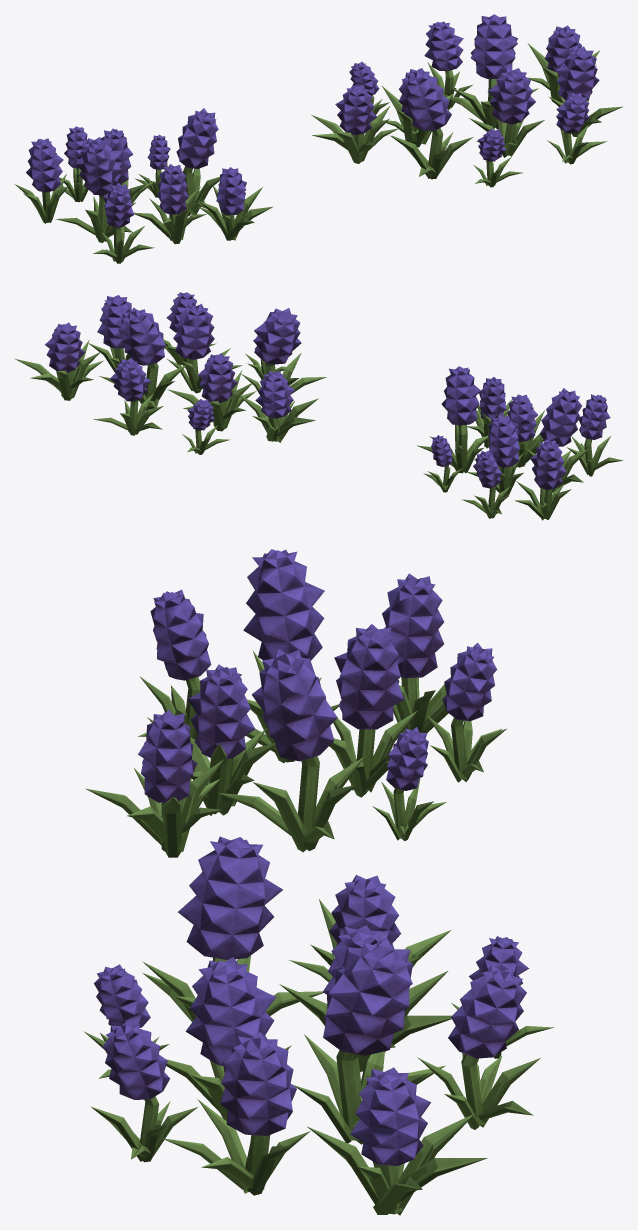
File: purple_flowers.glb
The picture shows the model from 3 angles, top to bottom: view 1: azimuth 30°, elevation 25°; view 2: azimuth 150°, elevation 25°; view 3: azimuth 270°, elevation 25°; orthographic projection. The views are drawn at different scales.
Parts seen in each view (by area): view 1: mesh_flower_purple.002, mesh_flower_purple.003; view 2: mesh_flower_purple.002, mesh_flower_purple.003; view 3: mesh_flower_purple.002, mesh_flower_purple.003.
Boxes of the visible parts, x1=… form: mesh_flower_purple.002: x1=311, y1=14, x2=622, y2=187; mesh_flower_purple.003: x1=14, y1=108, x2=273, y2=263; mesh_flower_purple.002: x1=14, y1=292, x2=326, y2=454; mesh_flower_purple.003: x1=417, y1=366, x2=622, y2=520; mesh_flower_purple.002: x1=84, y1=836, x2=554, y2=1215; mesh_flower_purple.003: x1=85, y1=549, x2=506, y2=857.
Bounding box in the file's own units: 3.44 × 0.6061 × 1.27.
Materials: 1 (1 with a texture image).
